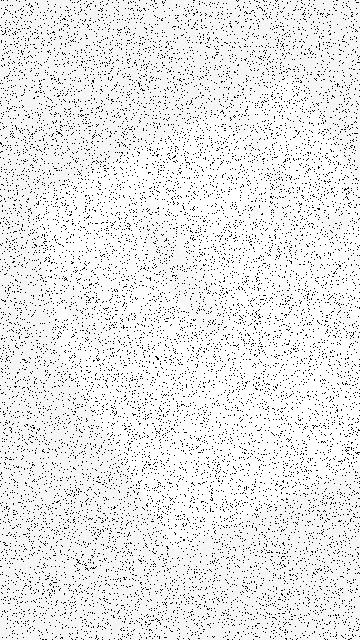pot: (55, 196, 228, 364)
